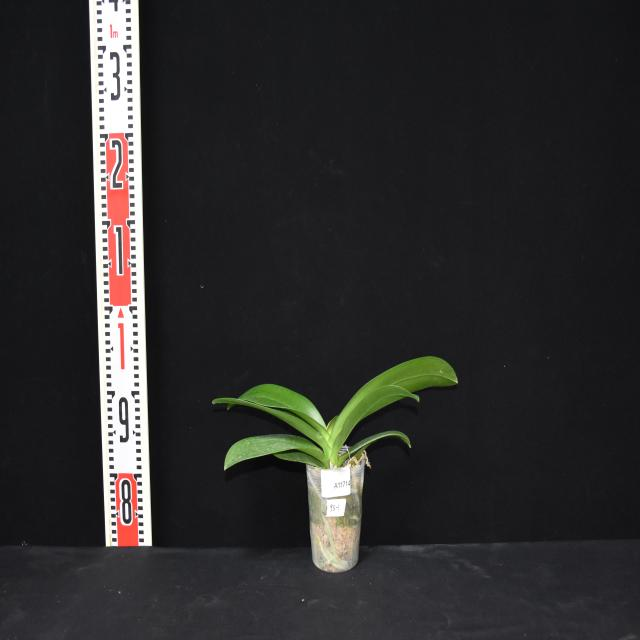leaf: (329, 357, 457, 449), (212, 398, 332, 459), (332, 386, 419, 455), (238, 384, 331, 444), (224, 435, 330, 470), (340, 432, 410, 465), (273, 450, 325, 469)
